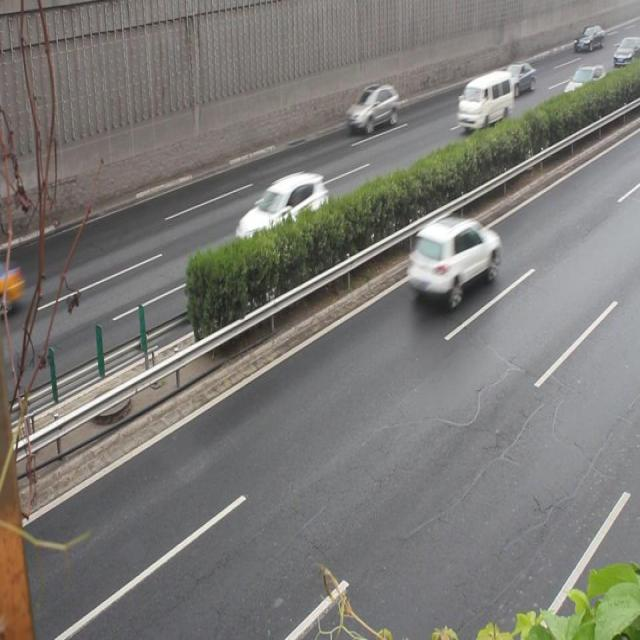car: (405, 214, 500, 306), (236, 175, 330, 252), (347, 85, 399, 132), (1, 257, 26, 311), (495, 62, 536, 94)
truck: (456, 72, 513, 129)
